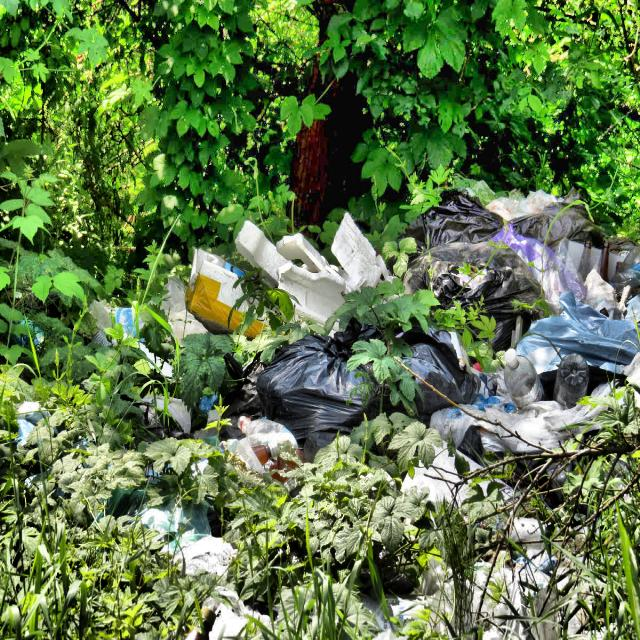garbage: (172, 224, 633, 433), (13, 344, 294, 494)
